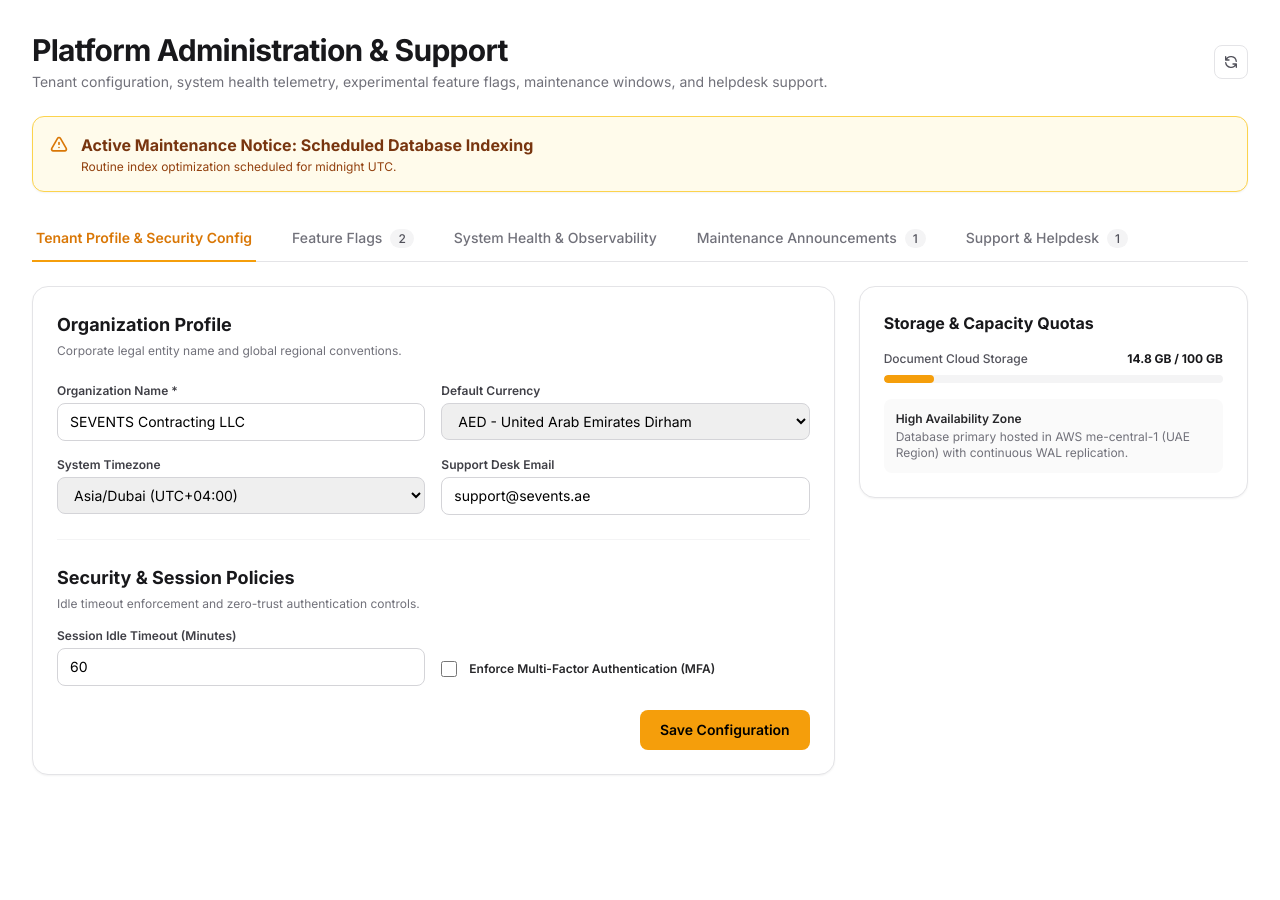
it: PlatformAdminPage (M36: Platform Administration & Support) › switches to System Health tab and renders component telemetry
This screenshot has width=1280, height=900.
Expected: the heading "Platform Administration & Support" is shown, 32,32 -> 508,68
Click the button "System Health & Observability": [555, 239] box 450,216 -> 661,262
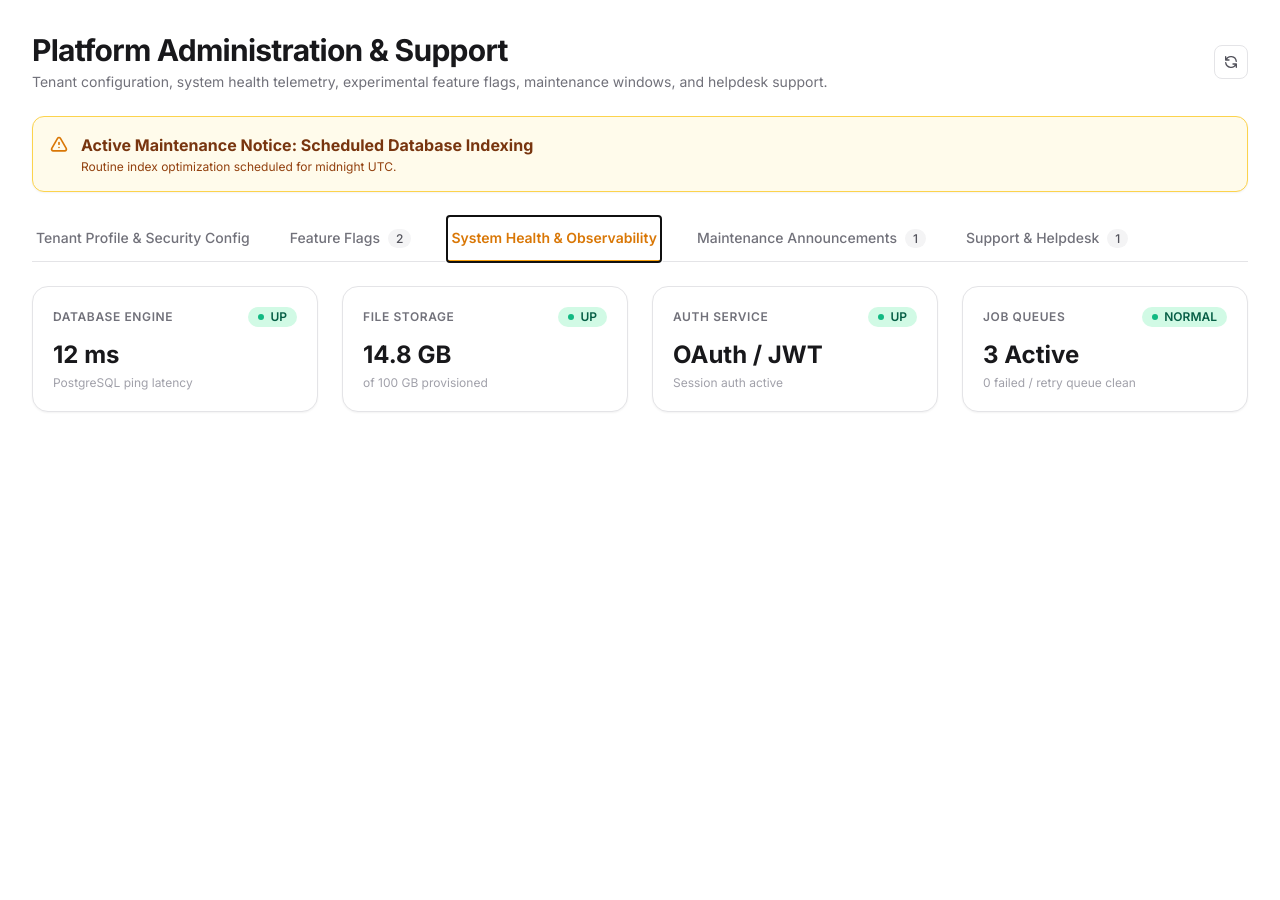
Expected: the text "14.8 GB" is shown, 363,340 -> 451,369
Expected: the text "12 ms" is shown, 53,340 -> 120,369
Expected: the text "PostgreSQL ping latency" is shown, 53,375 -> 193,390
